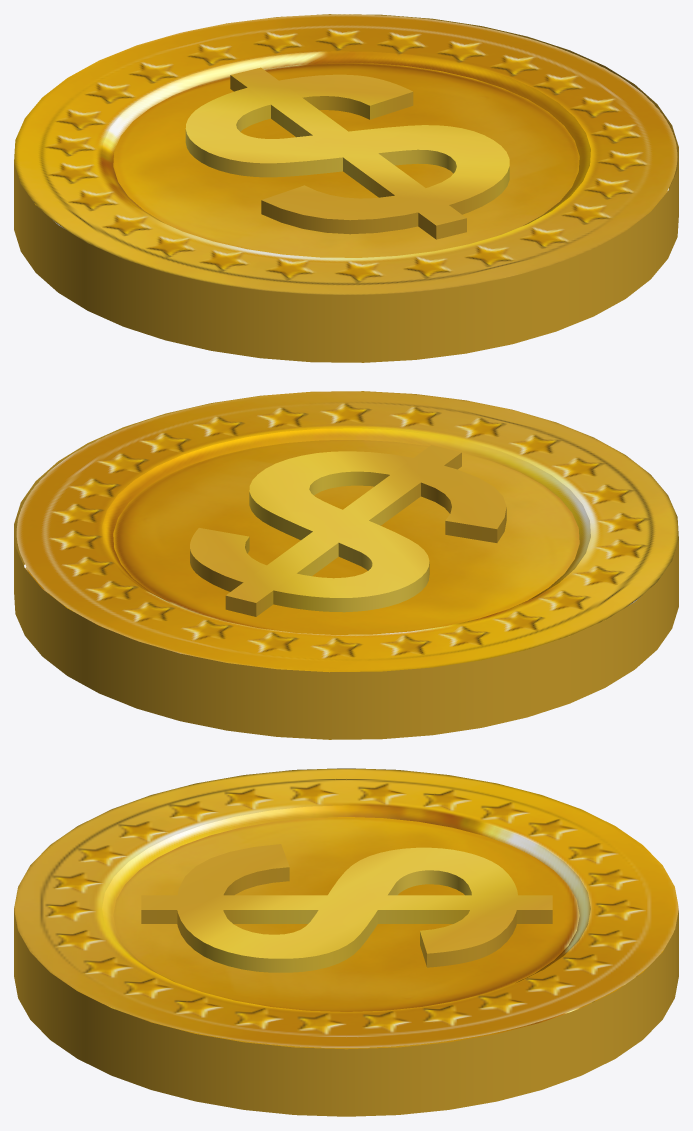
File: cuinّ_s.FBX
3 renders of one model, top to bottom at view 1: azimuth 30°, elevation 25°; view 2: azimuth 150°, elevation 25°; view 3: azimuth 270°, elevation 25°, orthographic.
Parts seen in each view (by area): view 1: Cylinder003; view 2: Cylinder003; view 3: Cylinder003.
Part boxes in pixels (x1,y1,x2,y2): Cylinder003: (14, 14, 678, 362); Cylinder003: (14, 391, 678, 739); Cylinder003: (14, 768, 678, 1116).
Bounding box in the file's own units: 3.15 × 0.4262 × 3.15.
